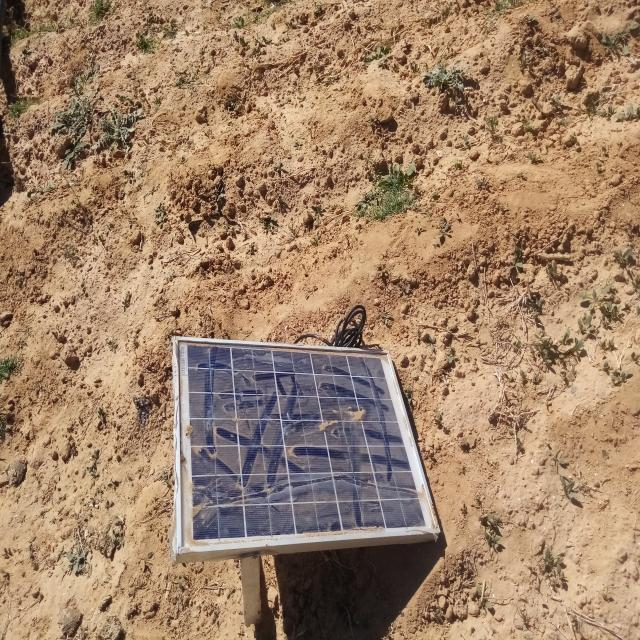faulty: (175, 339, 438, 551)
